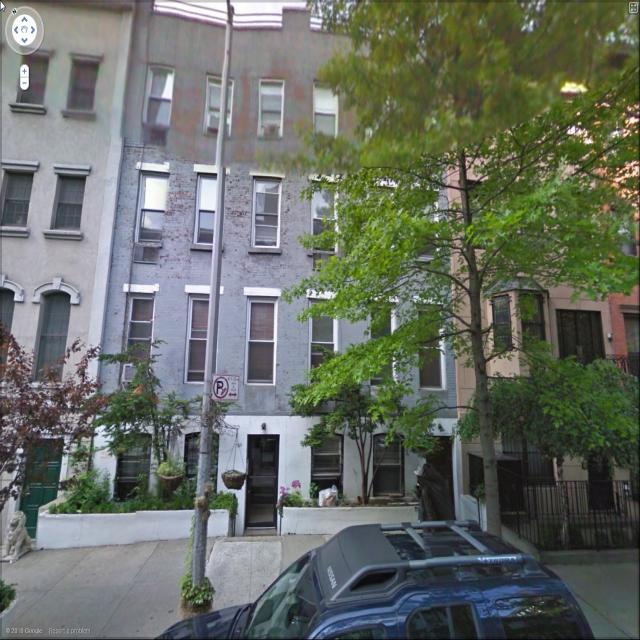b_2: (88, 14, 439, 528), (441, 12, 639, 532), (0, 8, 121, 508)
